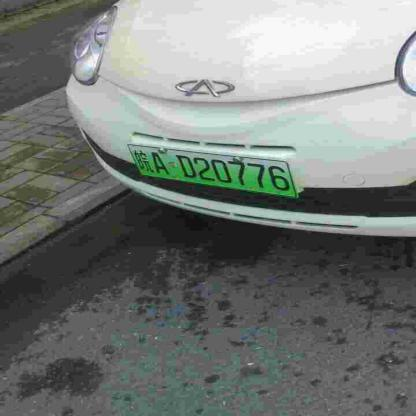lp: (127, 144, 297, 196)
